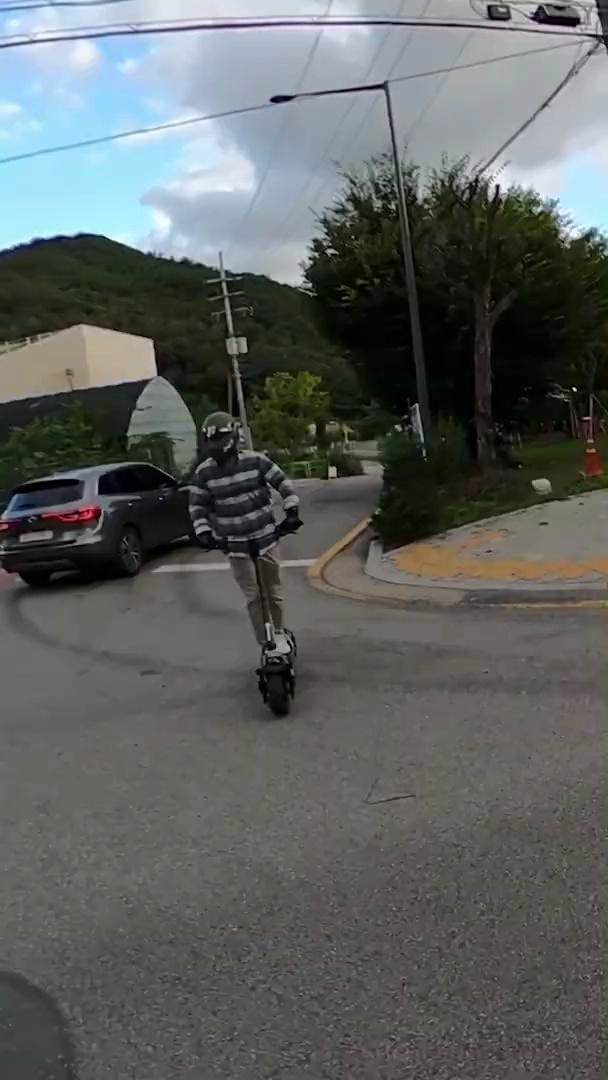helmet: (184, 411, 322, 721)
